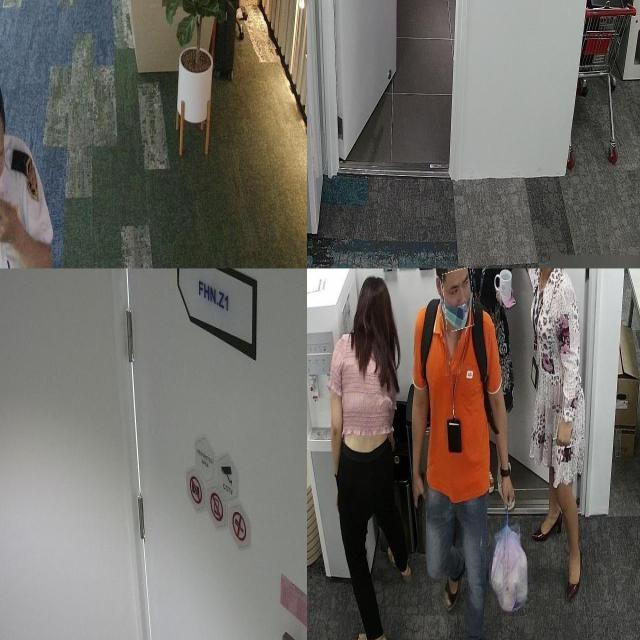hairnet: (444, 268, 474, 330)
